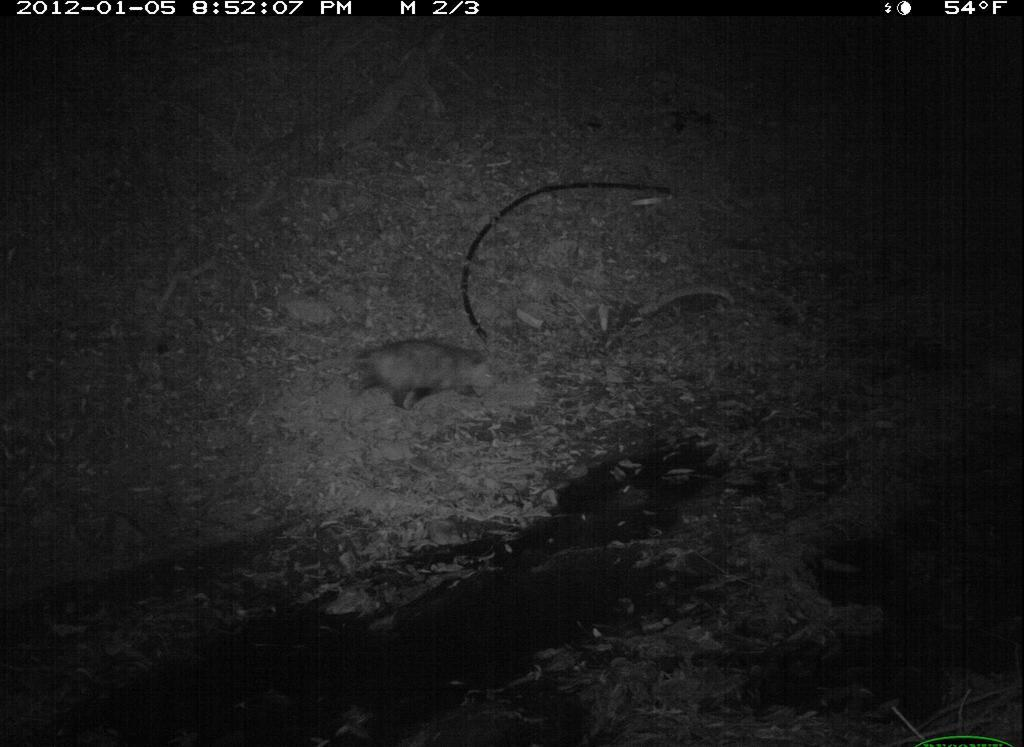opossum: (336, 334, 510, 419)
